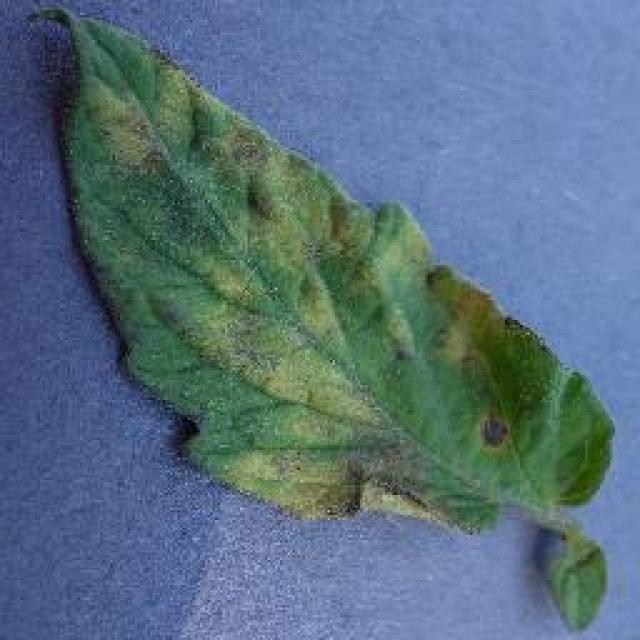Tomato mold leaf: (31, 10, 616, 525)
